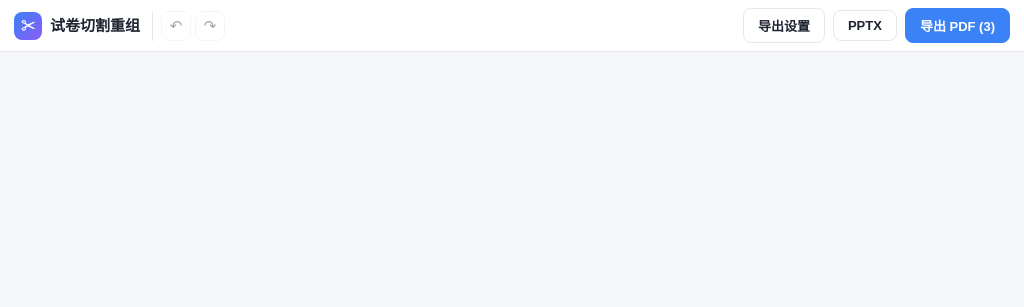
Test case: TopBar › 署名字号:未填署名时禁用;填了以后可改且被夹到 6-24
Click the button "导出设置": (784, 26) [743,8,825,43]
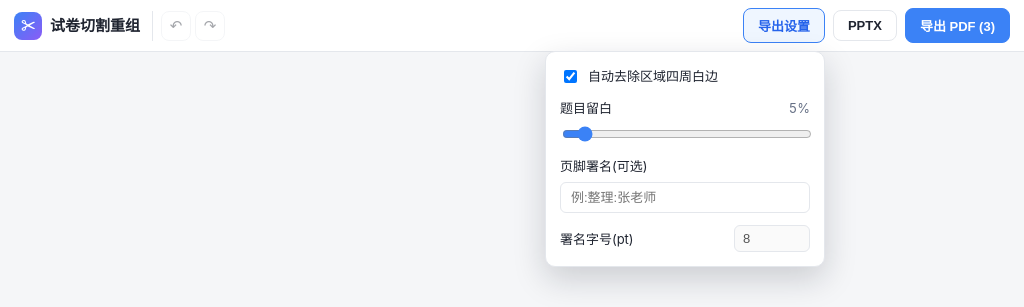
expect the number field labelled "署名字号" is disabled: met, box [734,225,810,252]
